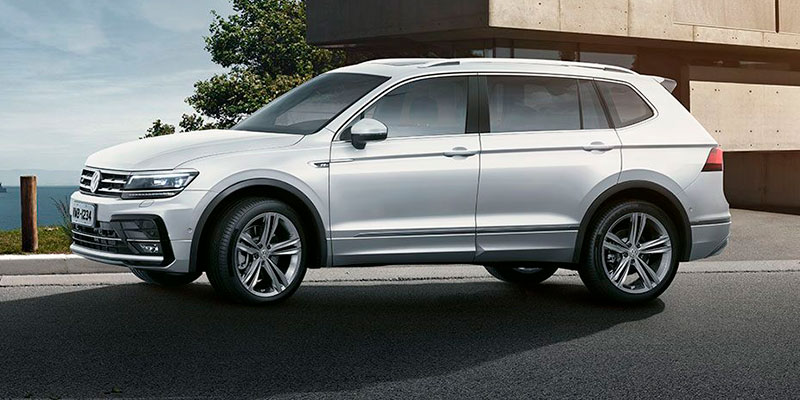Carro: (67, 53, 734, 312)
